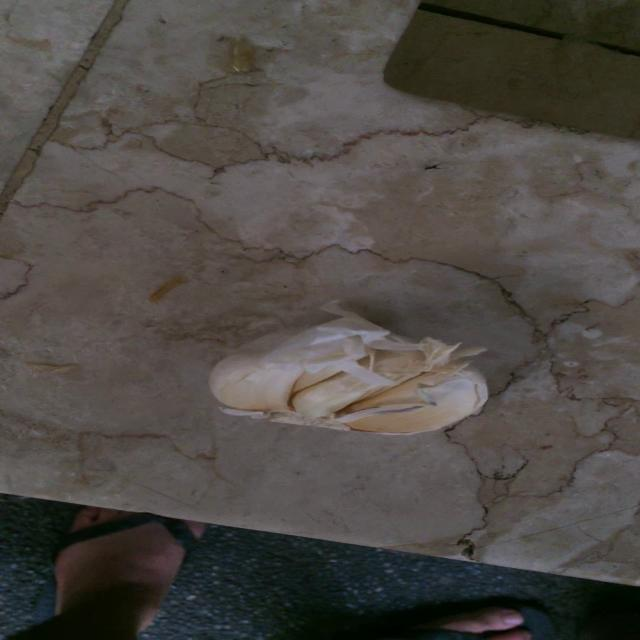garlic: (198, 305, 500, 441)
